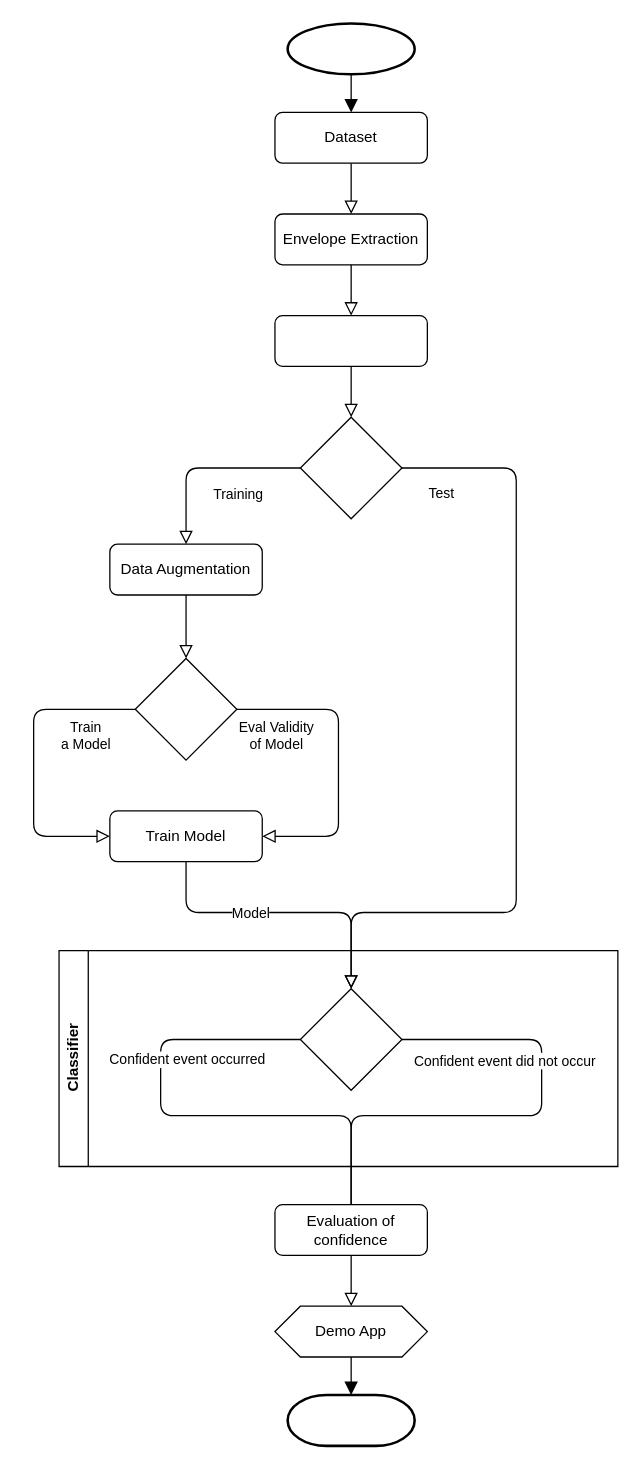
Image size: 640x1468. Some labels were removed from this diagram. Here are the shapes that lost their labels. From the top down, the centre of each, then its label:
the point at 350,48: Start
the point at 350,340: Dataset Split
the point at 350,1038: Binary Signal
the point at 350,1420: End
